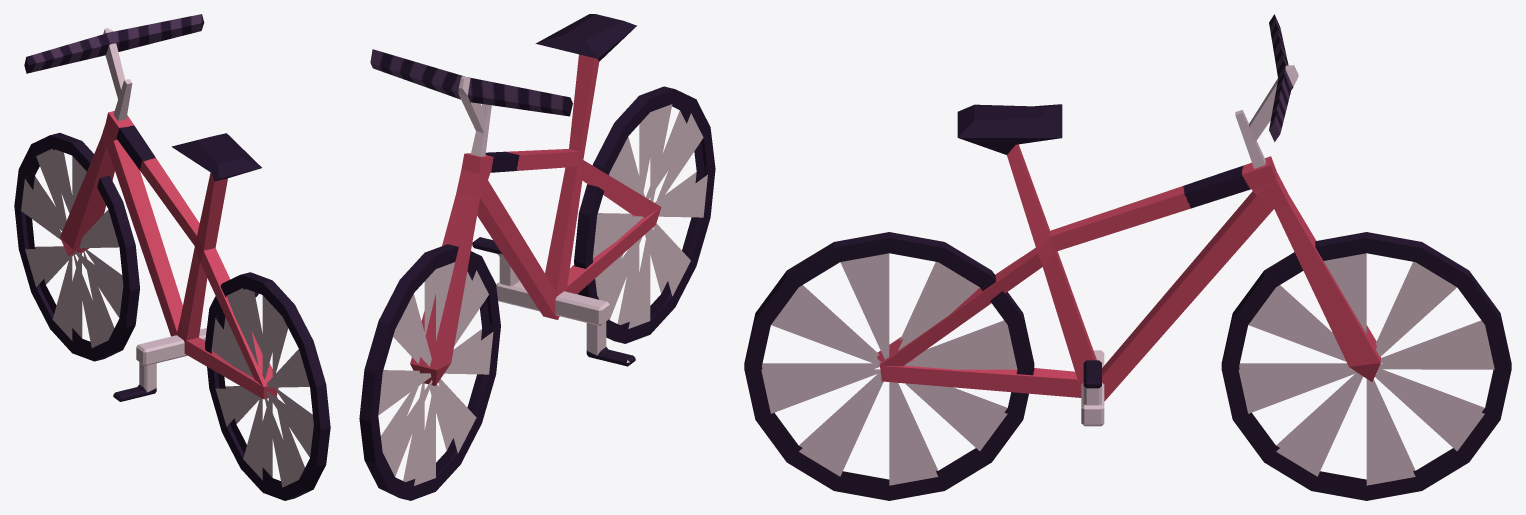
The model's file is Bicycle.fbx.
3 renders of one model, left to right at view 1: azimuth 30°, elevation 25°; view 2: azimuth 150°, elevation 25°; view 3: azimuth 270°, elevation 25°, orthographic. The views are drawn at different scales.
Parts seen in each view (by area): view 1: Corpo, RodaDeTras, RodaDaFrente, Guidao, Pedal; view 2: Corpo, RodaDaFrente, RodaDeTras, Guidao, Pedal; view 3: RodaDeTras, RodaDaFrente, Corpo, Guidao, Pedal.
Part boxes in pixels (left/top/right/bottom): Corpo: left=60, top=111, right=278, bottom=399; RodaDeTras: left=205, top=272, right=330, bottom=500; RodaDaFrente: left=14, top=133, right=139, bottom=361; Guidao: left=24, top=14, right=204, bottom=120; Pedal: left=113, top=292, right=258, bottom=401; Corpo: left=410, top=14, right=661, bottom=385; RodaDaFrente: left=359, top=244, right=500, bottom=500; RodaDeTras: left=574, top=86, right=715, bottom=343; Guidao: left=370, top=49, right=572, bottom=156; Pedal: left=472, top=237, right=635, bottom=366; RodaDeTras: left=744, top=232, right=1034, bottom=500; RodaDaFrente: left=1221, top=232, right=1511, bottom=500; Corpo: left=877, top=104, right=1380, bottom=401; Guidao: left=1235, top=14, right=1298, bottom=168; Pedal: left=1081, top=350, right=1104, bottom=426.
Bounding box in the file's own units: 482 × 160 × 300.
